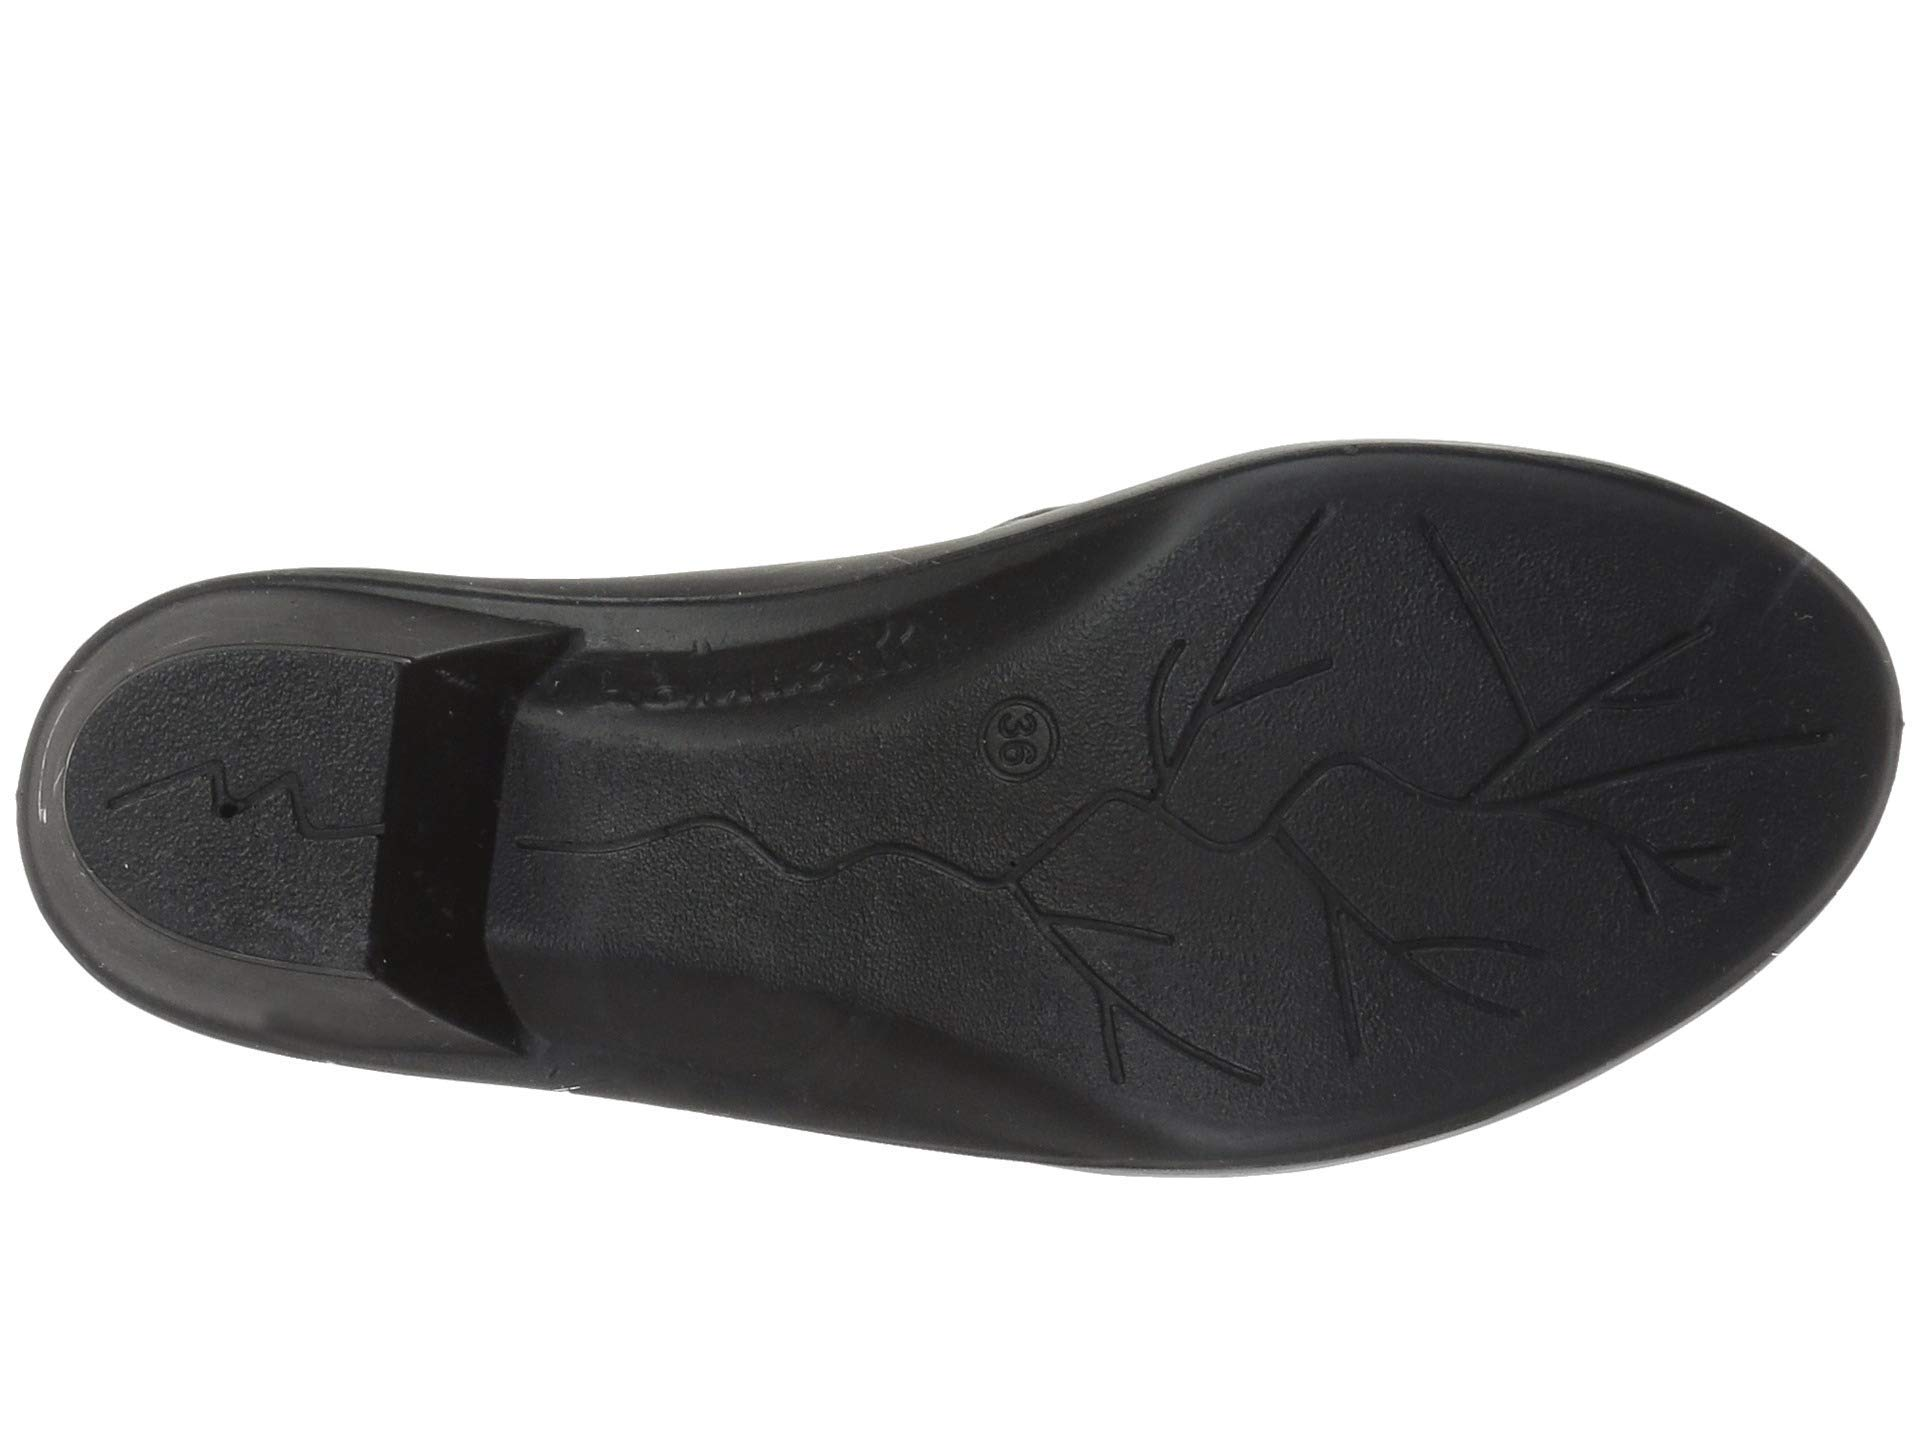chevron: (150, 732, 360, 889)
circle: (960, 688, 1098, 796)
text: (960, 688, 1098, 796)
